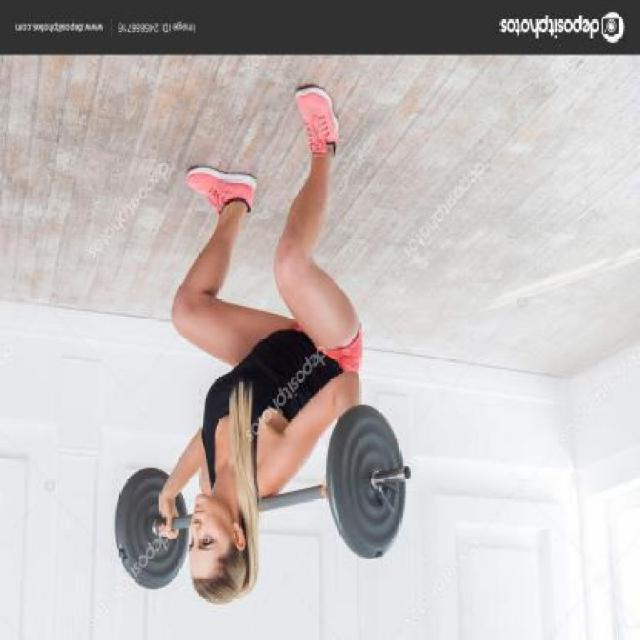Barbell: (398, 454, 416, 488)
